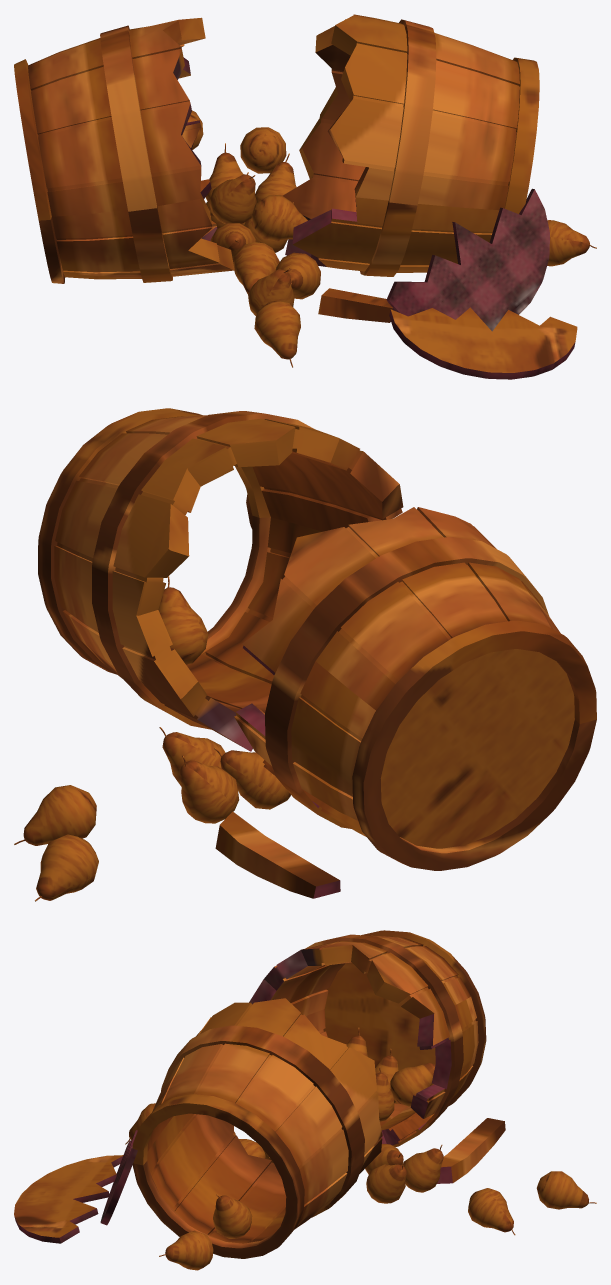
Rendered from barrel of broken fruit_4.fbx.
The picture shows the model from 3 angles, top to bottom: view 1: azimuth 30°, elevation 25°; view 2: azimuth 150°, elevation 25°; view 3: azimuth 270°, elevation 25°; orthographic projection. The views are drawn at different scales.
Parts seen in each view (by area): view 1: Circle.028, Circle.029, Plane.691, Plane.1610, Plane.1607, Plane.699, Plane.692, Plane.700, Plane.697, Plane.694, Plane.1612, Plane.1602 (+1 smaller); view 2: Circle.028, Plane.699, Plane.696, Plane.1603, Plane.1606, Plane.1609, Plane.1612; view 3: Circle.028, Circle.029, Plane.696, Plane.699, Plane.700, Plane.1603, Plane.1609, Plane.1612, Plane.1608, Plane.1611, Plane.1606.
Part boxes in pixels (x1,y1,x2,y2): Circle.028: (14,14,539,322); Circle.029: (386,188,577,379); Plane.691: (254,301,300,367); Plane.1610: (210,174,256,224); Plane.1607: (251,195,307,241); Plane.699: (240,127,286,173); Plane.692: (233,242,279,293); Plane.700: (547,220,596,266); Plane.697: (275,252,320,299); Plane.694: (248,268,294,315); Plane.1612: (255,153,296,203); Plane.1602: (210,223,256,261); Circle.028: (38,408,596,898); Plane.699: (14,785,96,845); Plane.696: (35,834,98,901); Plane.1603: (179,755,239,823); Plane.1606: (214,748,290,809); Plane.1609: (158,576,208,664); Plane.1612: (159,727,225,786); Circle.028: (132,930,505,1258); Circle.029: (14,1130,137,1243); Plane.696: (536,1171,596,1209); Plane.699: (468,1188,515,1235); Plane.700: (159,1230,213,1270); Plane.1603: (403,1145,443,1192); Plane.1609: (213,1194,252,1238); Plane.1612: (366,1164,406,1203); Plane.1608: (390,1063,435,1106); Plane.1611: (375,1066,394,1121); Plane.1606: (365,1144,403,1174).
Bounding box in the file's own units: 73.78 × 37.1 × 94.35.
